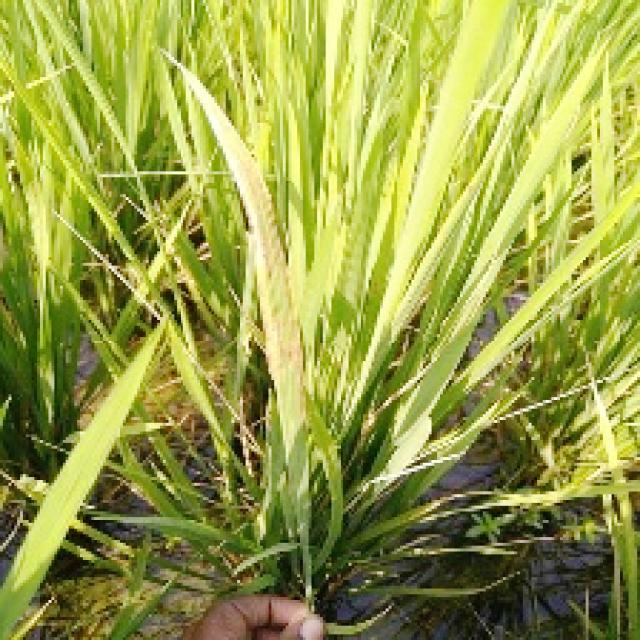health: (240, 0, 640, 444)
